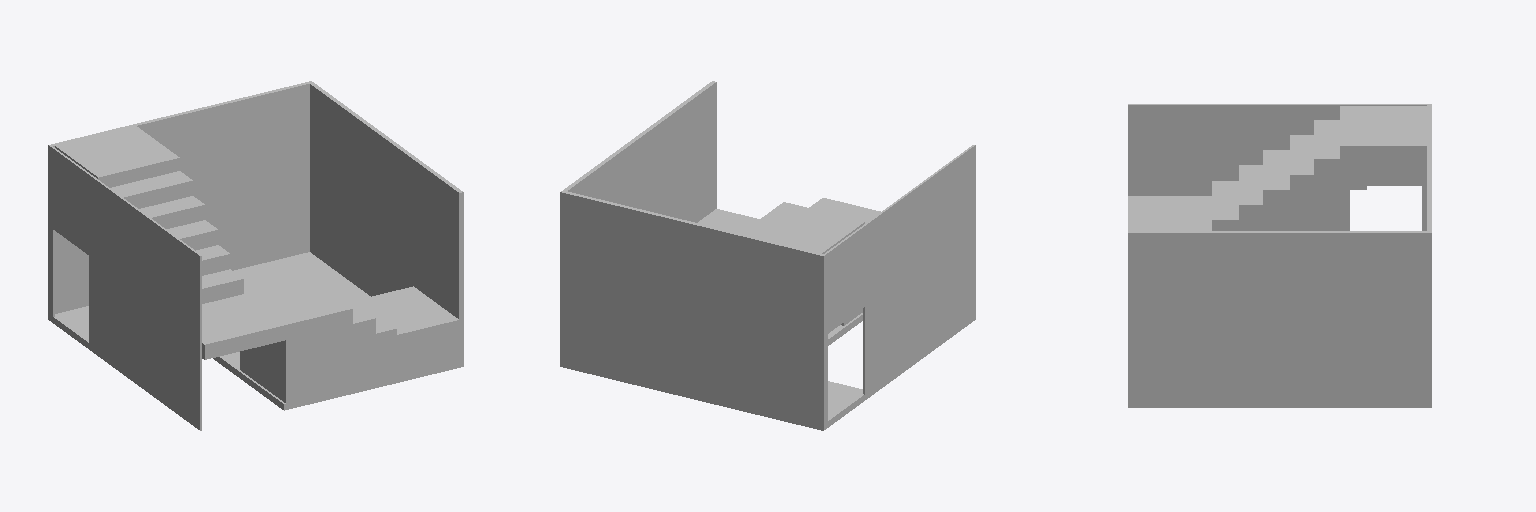
File: 4x2 third-2.obj
The picture shows the model from 3 angles: view 1: azimuth 30°, elevation 25°; view 2: azimuth 150°, elevation 25°; view 3: azimuth 270°, elevation 25°; orthographic projection.
Parts seen in each view (by area): view 1: 4x2 third-2; view 2: 4x2 third-2; view 3: 4x2 third-2.
Part boxes in pixels (x1,y1,x2,y2): 4x2 third-2: (48, 81, 463, 430); 4x2 third-2: (560, 81, 975, 430); 4x2 third-2: (1128, 104, 1431, 407).
Bounding box in the file's own units: 126 × 80 × 126.